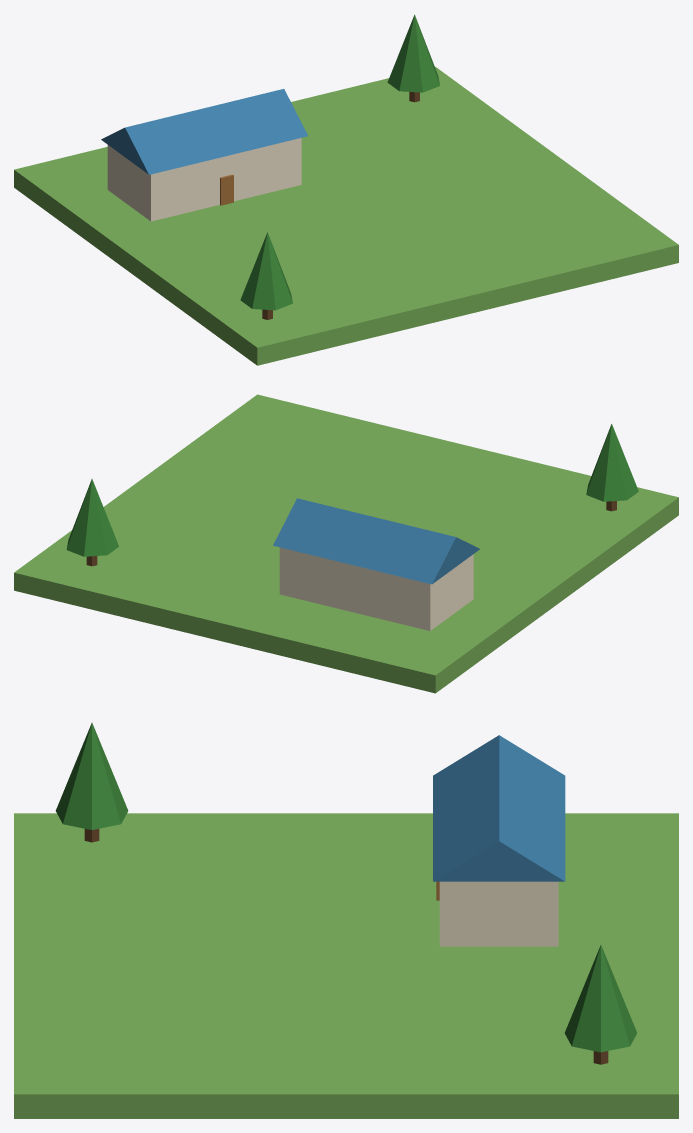
The model's file is tourism_income_1.glb.
The picture shows the model from 3 angles, top to bottom: view 1: azimuth 30°, elevation 25°; view 2: azimuth 150°, elevation 25°; view 3: azimuth 270°, elevation 25°; orthographic projection. The views are drawn at different scales.
Parts seen in each view (by area): view 1: tourism_income_1; view 2: tourism_income_1; view 3: tourism_income_1.
Boxes of the visible parts, left/top/right/bottom form: tourism_income_1: left=14, top=14, right=678, bottom=365; tourism_income_1: left=14, top=394, right=678, bottom=693; tourism_income_1: left=14, top=722, right=678, bottom=1118.
Bounding box in the file's own units: 1.96 × 0.46 × 1.96.
